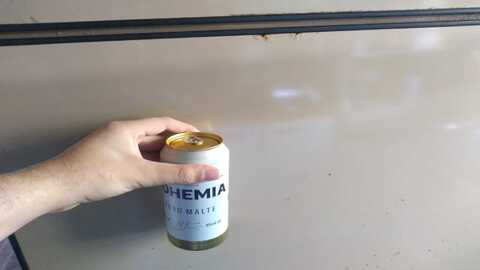bohemia: (162, 133, 234, 250)
